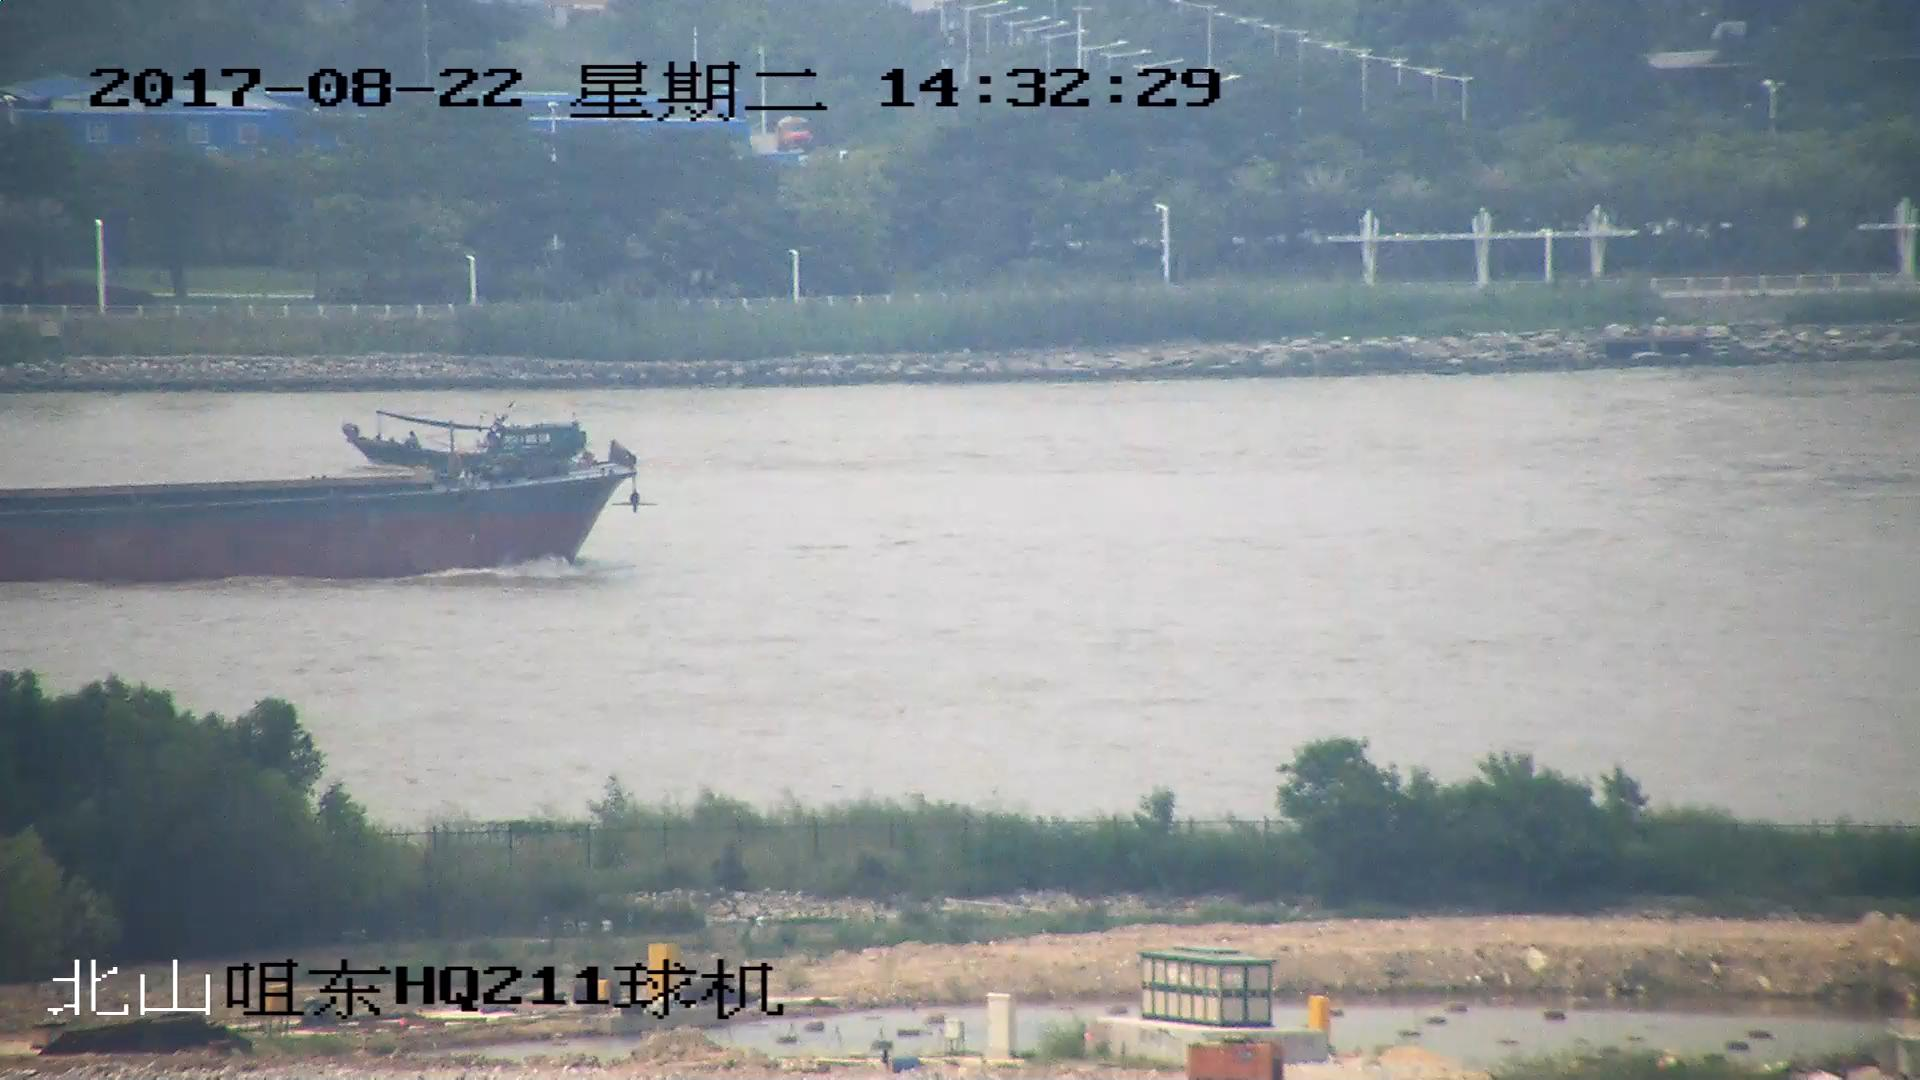bulk cargo carrier: (1, 442, 642, 588)
fishing boat: (342, 405, 589, 474)
